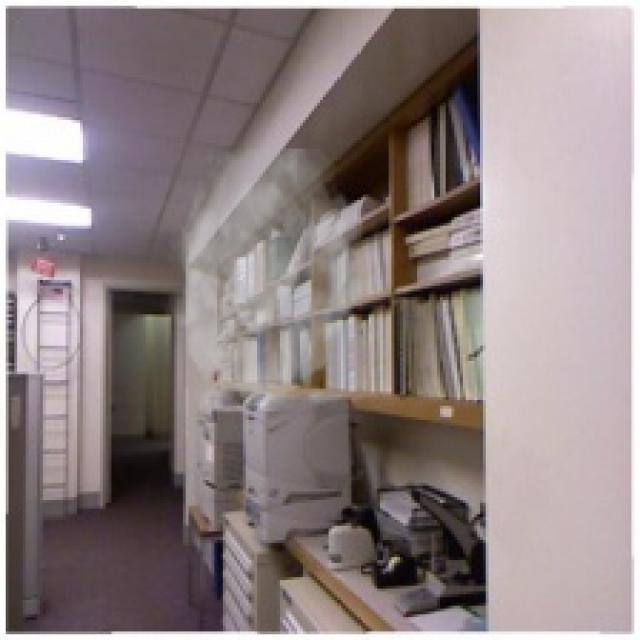Smoke: (162, 148, 372, 412)
